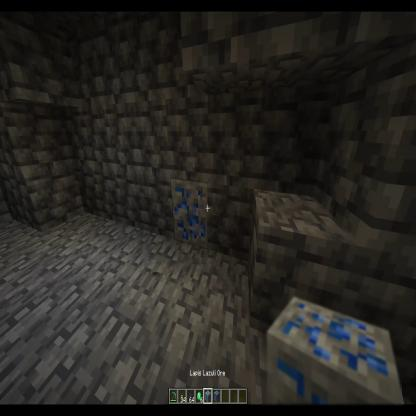lapis ore: (262, 295, 402, 416), (171, 175, 211, 254)
